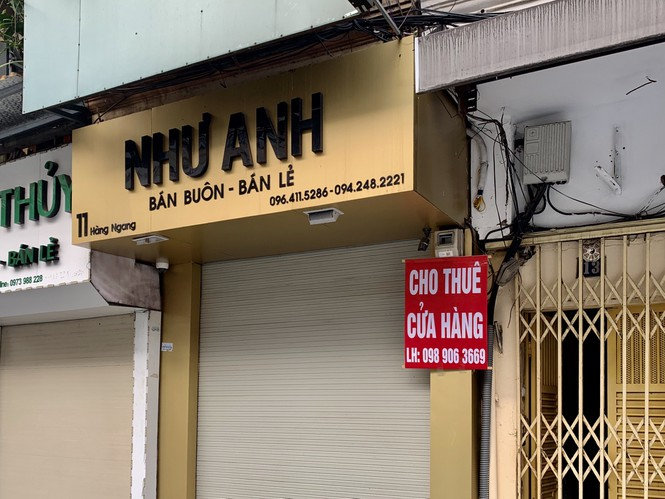banner: (66, 57, 418, 245), (397, 255, 515, 377), (1, 142, 91, 285)
